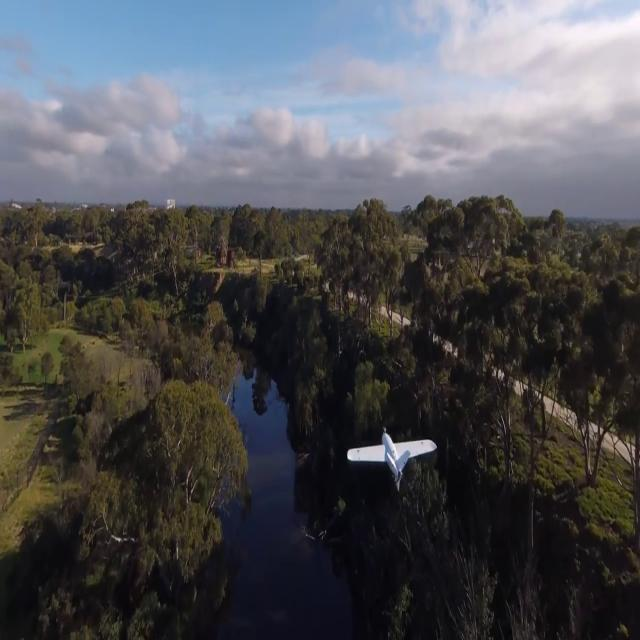iha: (371, 417, 401, 479)
